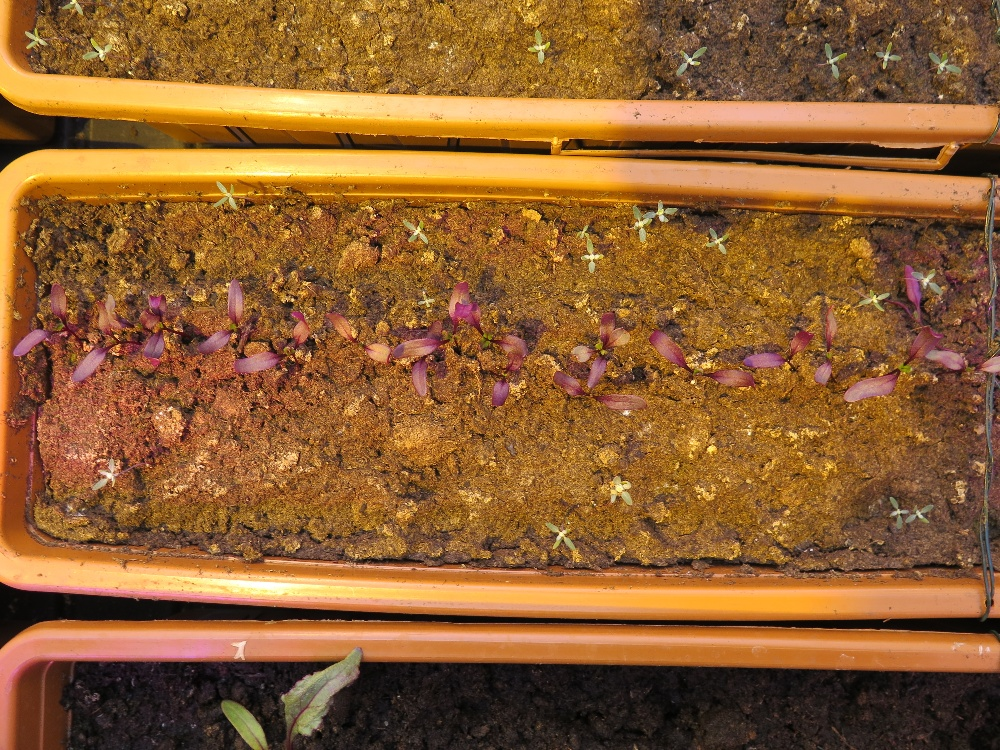crop: (844, 326, 969, 409), (386, 285, 472, 376), (653, 321, 754, 398), (233, 299, 314, 380), (570, 309, 636, 393), (553, 365, 651, 419), (10, 281, 78, 357), (197, 272, 251, 365), (456, 305, 538, 360), (66, 297, 114, 389), (327, 302, 391, 364), (130, 297, 182, 368), (741, 321, 813, 372), (807, 299, 840, 387), (406, 319, 442, 399), (488, 350, 523, 417), (897, 265, 919, 329)
weed: (544, 520, 577, 555), (90, 456, 119, 493), (674, 45, 707, 77), (928, 50, 962, 77), (823, 42, 848, 78), (856, 287, 890, 313), (400, 217, 430, 246), (527, 28, 551, 64), (874, 41, 903, 70), (211, 179, 237, 211), (81, 36, 113, 62), (704, 225, 730, 256), (23, 26, 49, 50), (416, 288, 436, 308)
